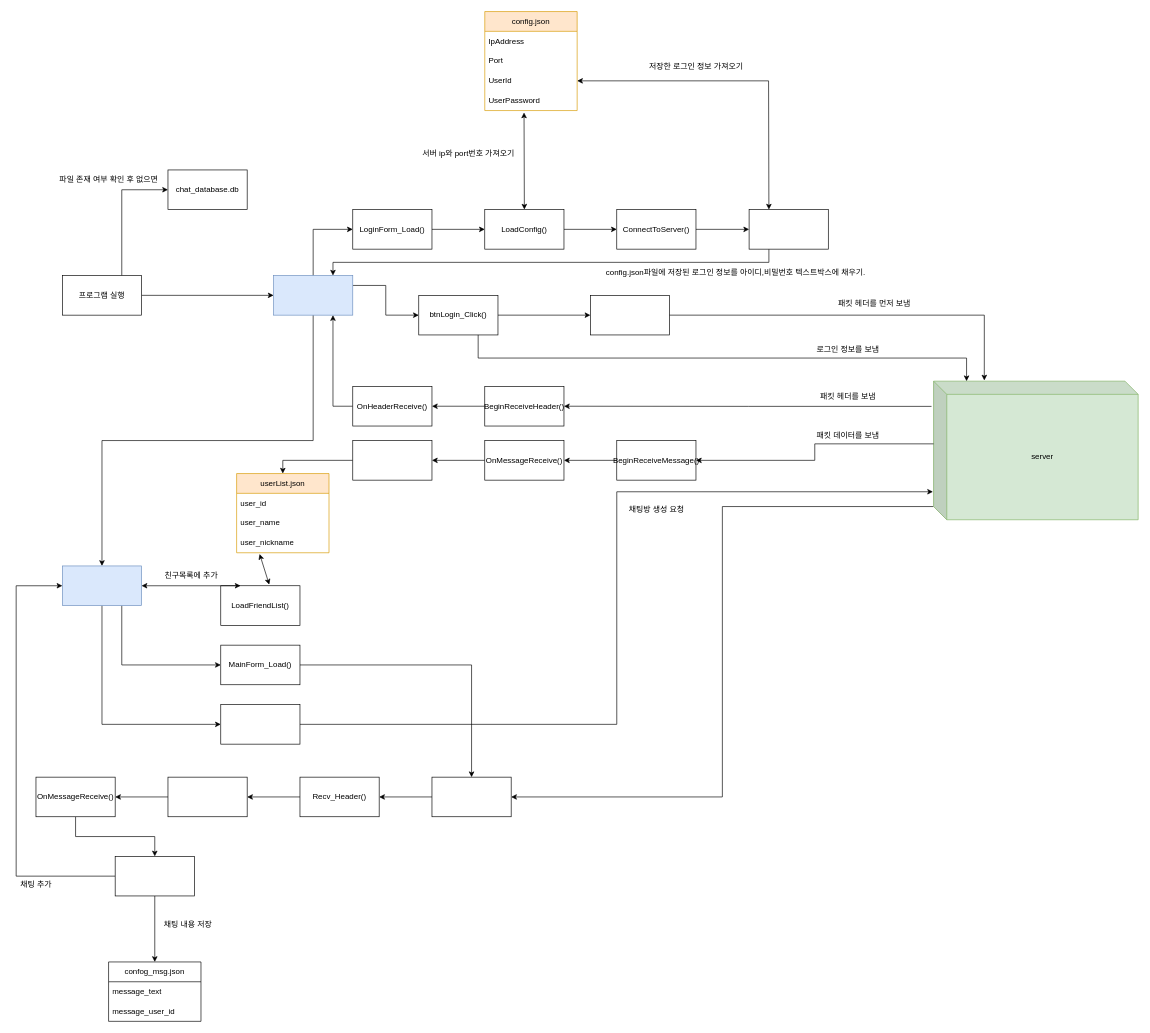
This 1150x1033 diagram has some shape labels left out. Here are the shapes that lost their labels. From the top down, the centre of each, then its label:
the point at 788,229: LoadLoginInfo()
the point at 313,295: LoginForm
the point at 630,315: PacketHeader
the point at 392,460: Recv_userList()
the point at 102,585: MainForm
the point at 260,724: LbFriends_DoubleClick()
the point at 207,796: Begin_RecvMessage()
the point at 471,796: Begin_Recv()
the point at 154,876: AddMessage()
